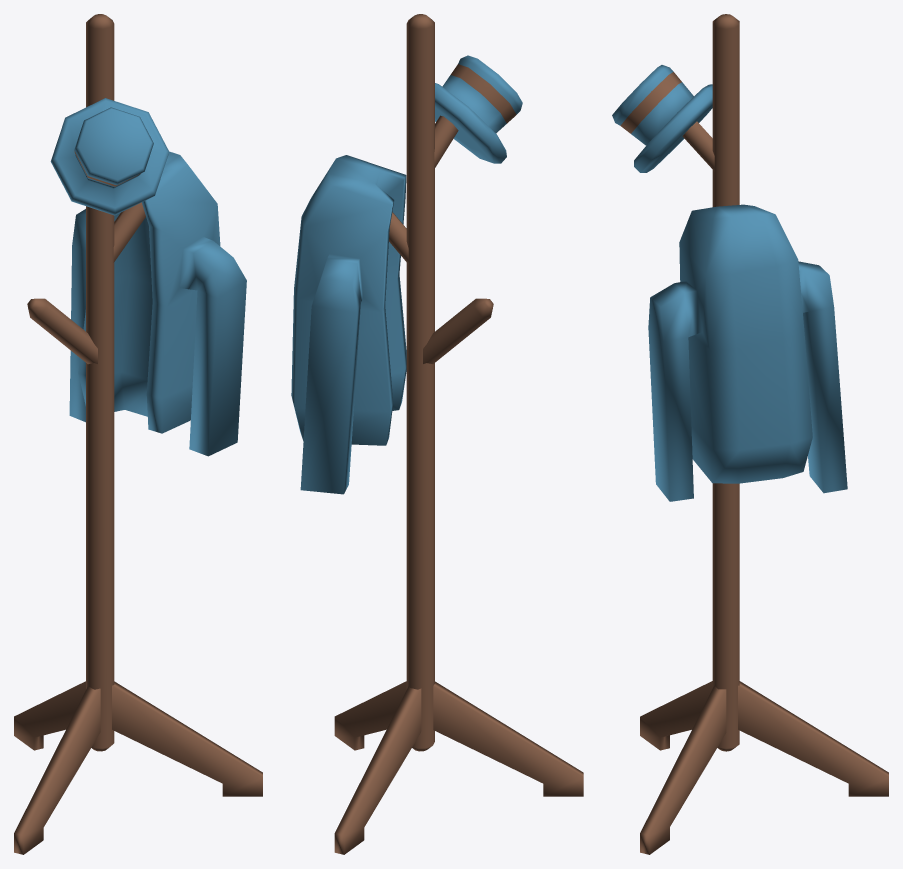
The model's file is mesh_coatrack_01.fbx.
3 views of the same model, side by side, from view 1: azimuth 30°, elevation 25°; view 2: azimuth 150°, elevation 25°; view 3: azimuth 270°, elevation 25° (orthographic).
Visible parts, largest first — view 1: mesh_coatrack_01; view 2: mesh_coatrack_01; view 3: mesh_coatrack_01.
Boxes of the visible parts, box(x1,y1,x2,y2) form: mesh_coatrack_01: box(14, 14, 262, 854); mesh_coatrack_01: box(291, 14, 583, 854); mesh_coatrack_01: box(612, 14, 888, 854).
Bounding box in the file's own units: 20.19 × 60.24 × 19.45.
